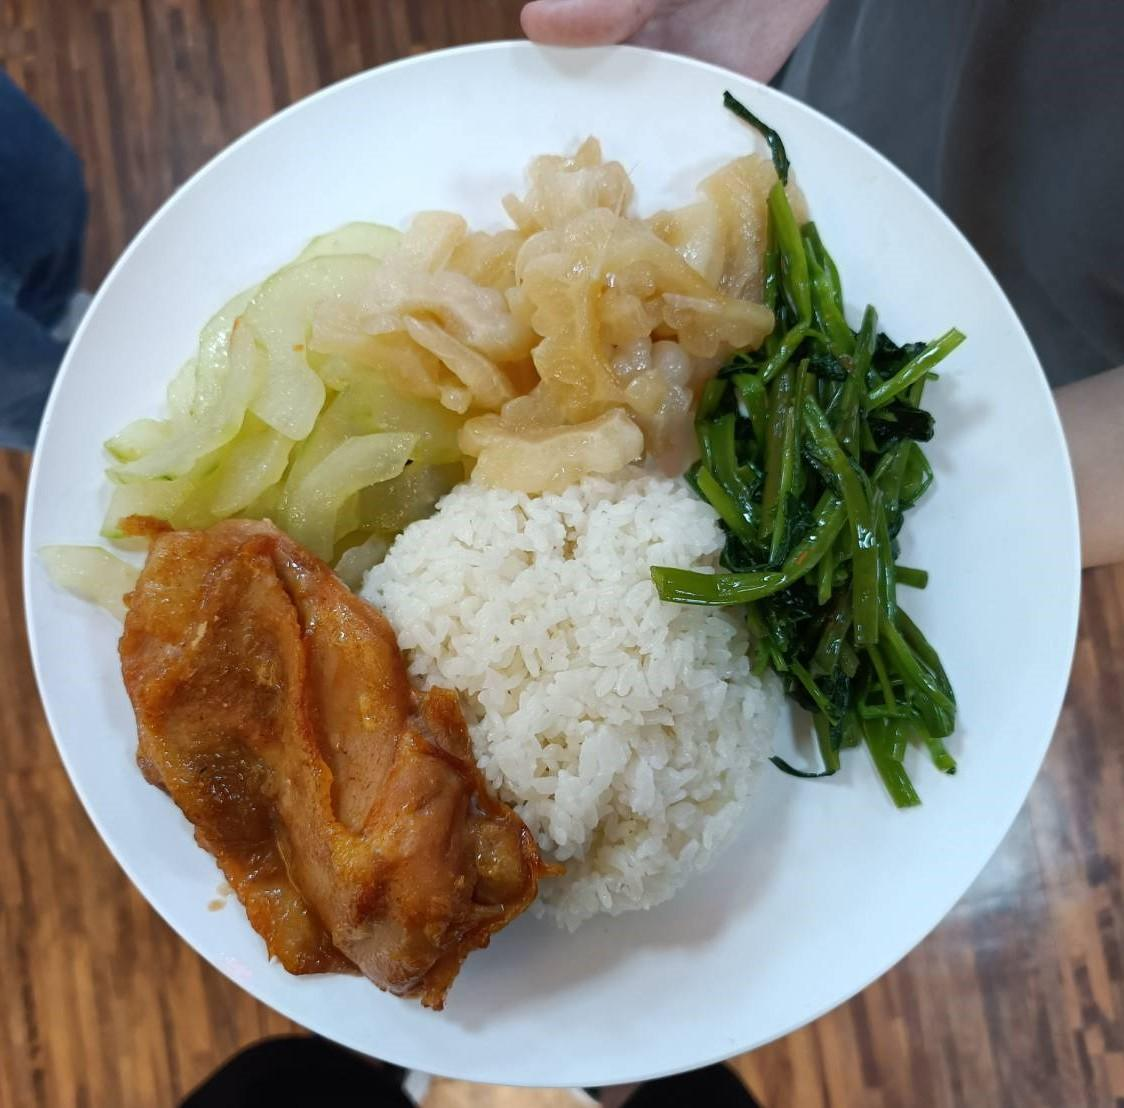big fried chicken leg: (18, 31, 1102, 1089)
big herbal chicken leg: (354, 463, 776, 925)
braised fish fillet: (698, 193, 986, 791), (390, 138, 788, 488), (124, 210, 455, 546)
braised pork: (105, 512, 556, 1021)
